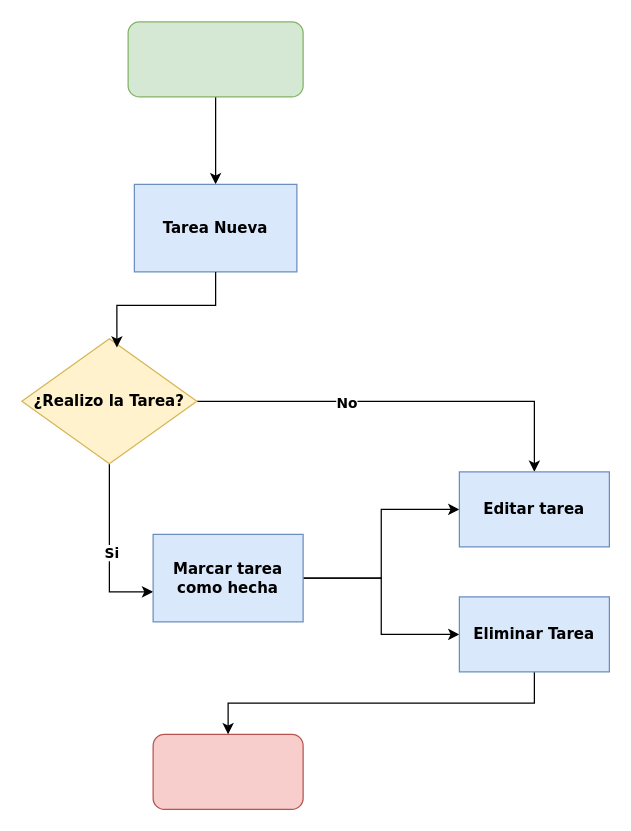
Image size: 631x831. Some labels were removed from this diagram. The box of each missing label's shape, as (x1, y1, x2, y2) in pixels:
Fin: (152, 733, 303, 809)
INICIO: (127, 21, 303, 97)
